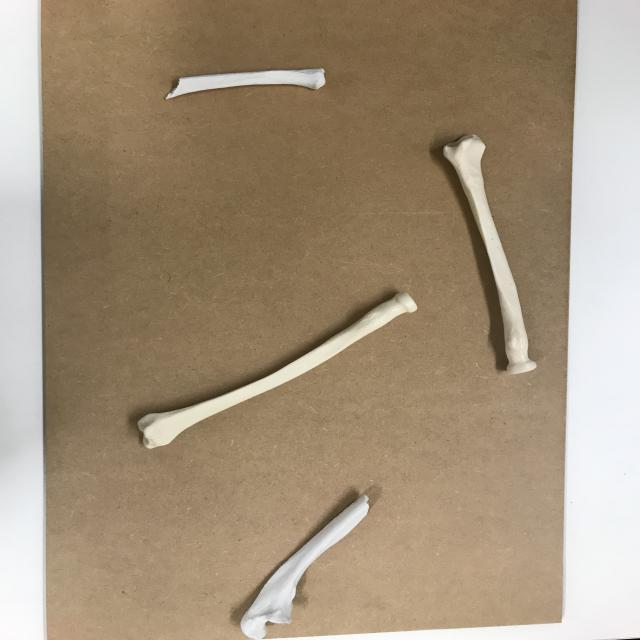bone: (126, 287, 424, 451), (432, 130, 542, 380), (237, 488, 381, 636), (160, 63, 334, 100)
